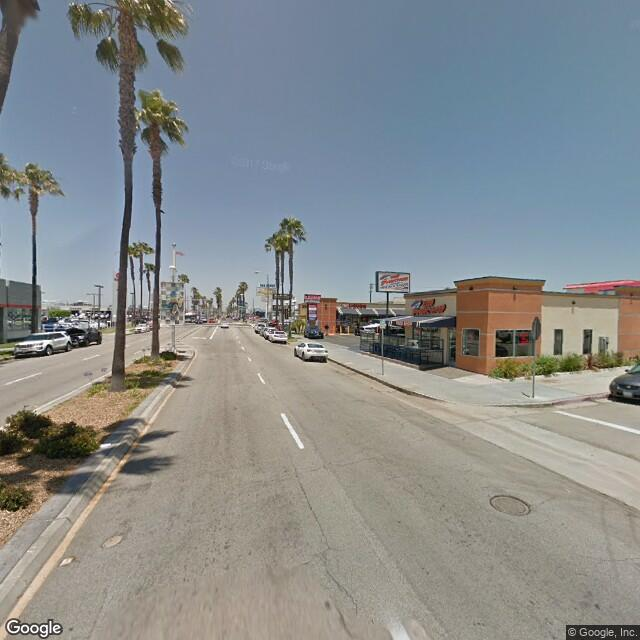litter: (102, 443, 114, 458)
